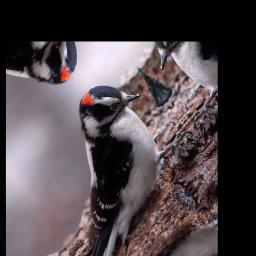Woodpecker: (12, 58, 204, 256)
